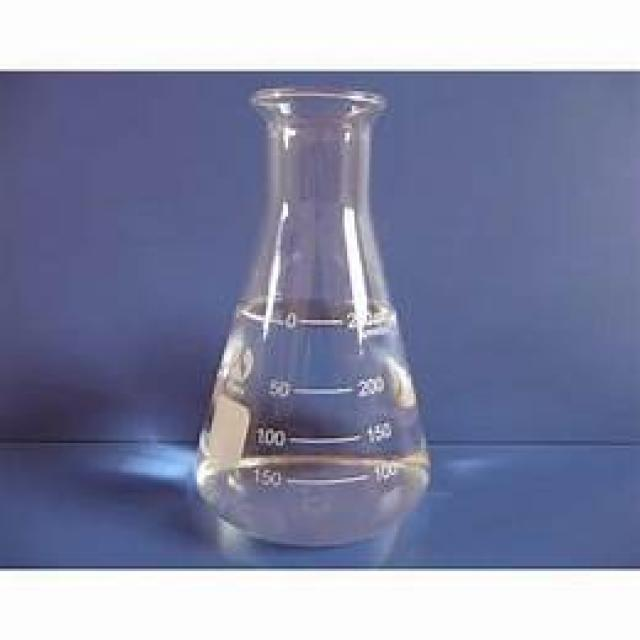Titrarion: (190, 91, 439, 553)
